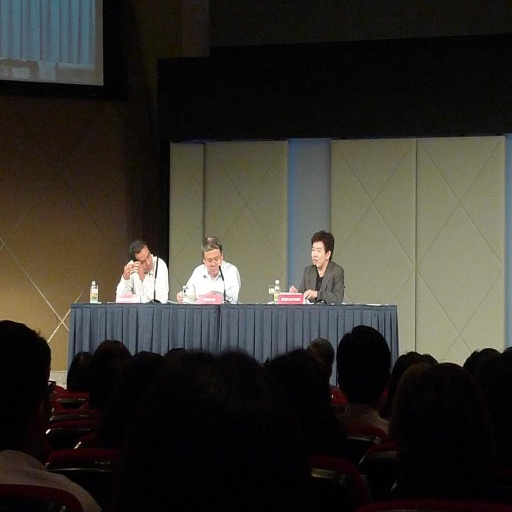hand: (133, 259, 145, 281), (303, 286, 318, 300), (123, 262, 134, 278), (286, 283, 297, 293), (175, 290, 182, 305)
